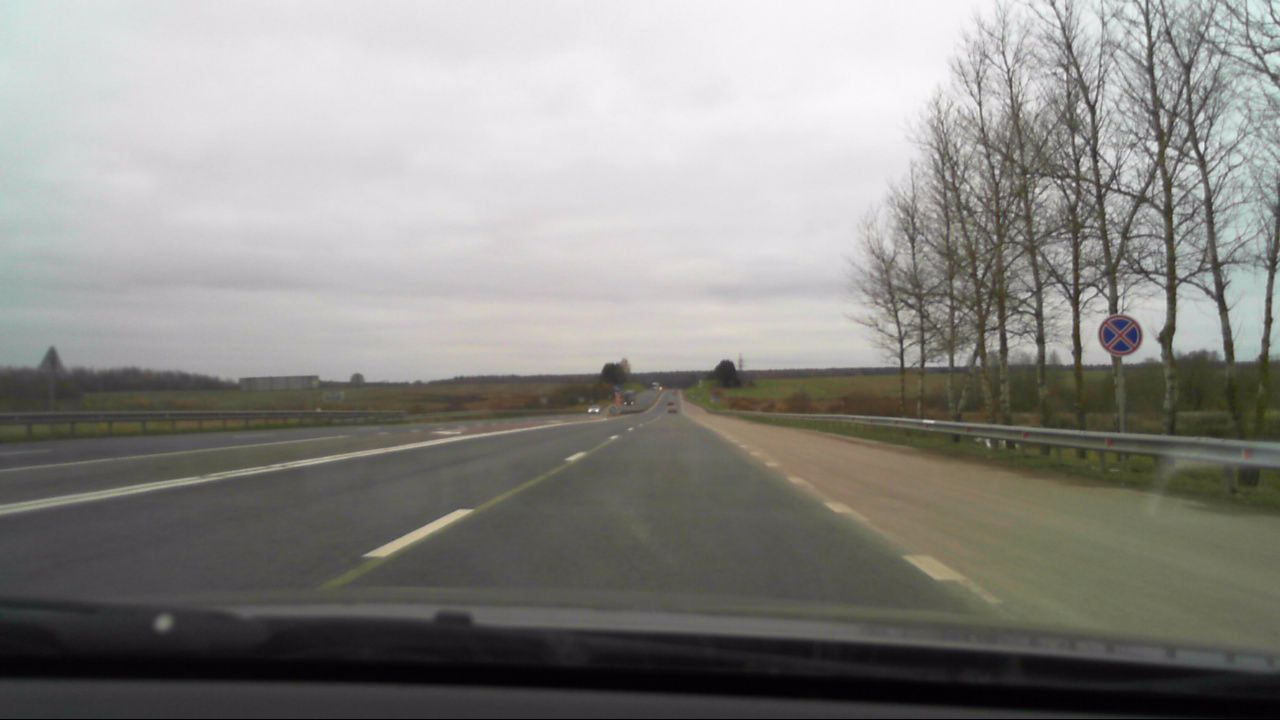No Parking: (1096, 315, 1143, 358)
